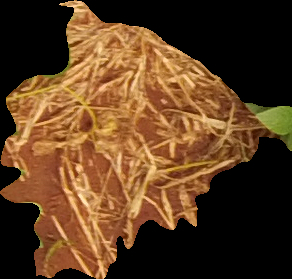soil: (1, 1, 292, 278)
